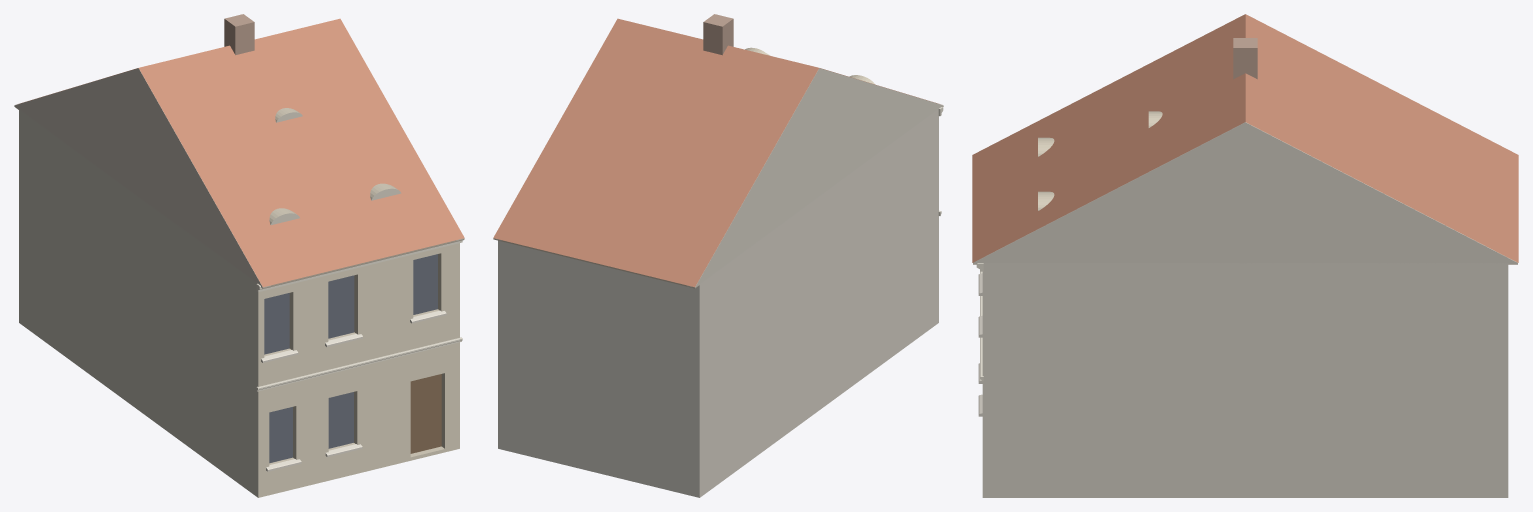
3 views of the same model, side by side, from view 1: azimuth 30°, elevation 25°; view 2: azimuth 150°, elevation 25°; view 3: azimuth 270°, elevation 25° (orthographic). The views are drawn at different scales.
Visible parts, largest first — view 1: CP_264_Masonry, CP_264_Roof, CP_264_Gable_L_gable, CP_264_Chimney_0, CP_264_Cornice_string_0, CP_264_Cornice_eave_0; view 2: CP_264_Masonry, CP_264_Roof, CP_264_Gable_L_gable, CP_264_Chimney_0; view 3: CP_264_Masonry, CP_264_Roof, CP_264_Gable_R_gable, CP_264_Chimney_0.
Boxes of the visible parts, bbox=[...] form: CP_264_Masonry: bbox=[19, 109, 459, 497]; CP_264_Roof: bbox=[19, 18, 464, 287]; CP_264_Gable_L_gable: bbox=[14, 68, 270, 287]; CP_264_Chimney_0: bbox=[224, 14, 254, 55]; CP_264_Cornice_string_0: bbox=[256, 337, 462, 391]; CP_264_Cornice_eave_0: bbox=[256, 239, 463, 292]; CP_264_Masonry: bbox=[498, 109, 938, 497]; CP_264_Roof: bbox=[493, 18, 938, 287]; CP_264_Gable_L_gable: bbox=[687, 68, 943, 287]; CP_264_Chimney_0: bbox=[703, 14, 733, 55]; CP_264_Masonry: bbox=[982, 263, 1508, 497]; CP_264_Roof: bbox=[972, 14, 1518, 262]; CP_264_Gable_R_gable: bbox=[973, 122, 1517, 263]; CP_264_Chimney_0: bbox=[1233, 38, 1257, 79].
Bounding box in the file's own units: 7.5 × 12.8 × 15.8.
